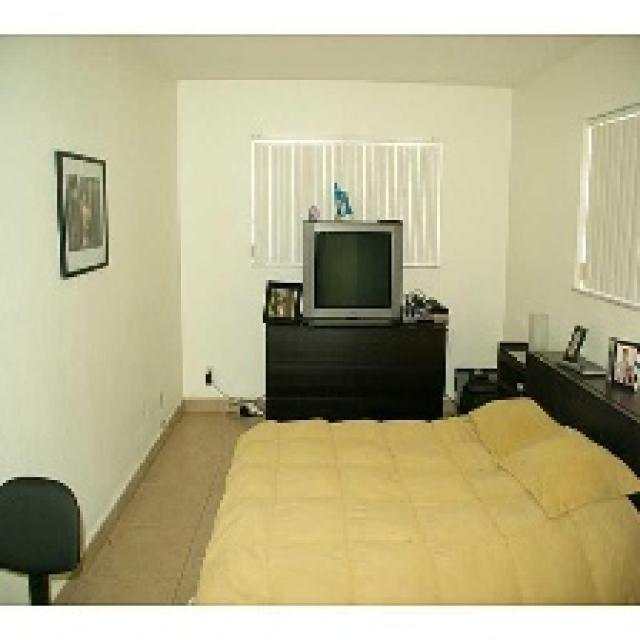Bed: (189, 394, 637, 603)
